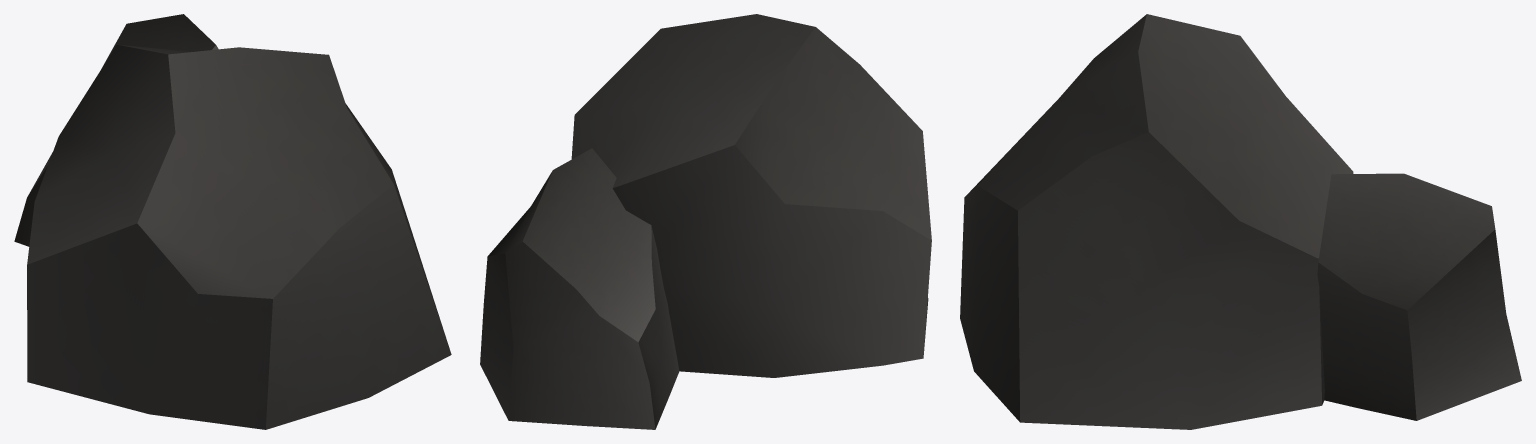
File: Batu_Sedang.fbx
3 renders of one model, left to right at view 1: azimuth 30°, elevation 25°; view 2: azimuth 150°, elevation 25°; view 3: azimuth 270°, elevation 25°, orthographic. The views are drawn at different scales.
Visible parts, largest first — view 1: Kec, Rock_5; view 2: Kec, Rock_5; view 3: Kec, Rock_5.
Boxes of the visible parts, x1,y1,x2,y2 form: Kec: (27,44,451,429); Rock_5: (14,14,218,246); Kec: (571,14,931,377); Rock_5: (480,148,679,429); Kec: (960,14,1353,429); Rock_5: (1317,173,1521,420).
Size of the model in its own units: 175 by 140 by 236.
